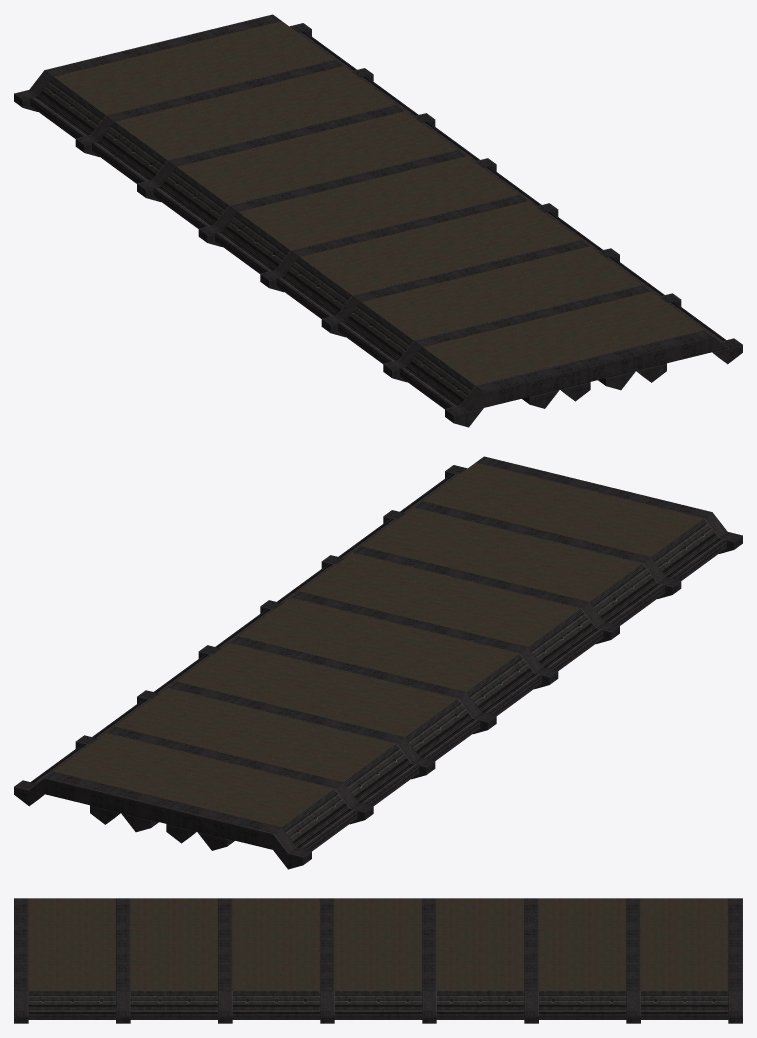
Rendered from longer_bridge6.fbx.
The picture shows the model from 3 angles, top to bottom: view 1: azimuth 30°, elevation 25°; view 2: azimuth 150°, elevation 25°; view 3: azimuth 270°, elevation 25°; orthographic projection. The views are drawn at different scales.
Parts seen in each view (by area): view 1: Object; view 2: Object; view 3: Object.
Boxes of the visible parts, x1=… form: Object: x1=14, y1=14, x2=742, y2=427; Object: x1=14, y1=456, x2=742, y2=869; Object: x1=14, y1=898, x2=742, y2=1023.
Bounding box in the file's own units: 3800 × 400 × 10000.
